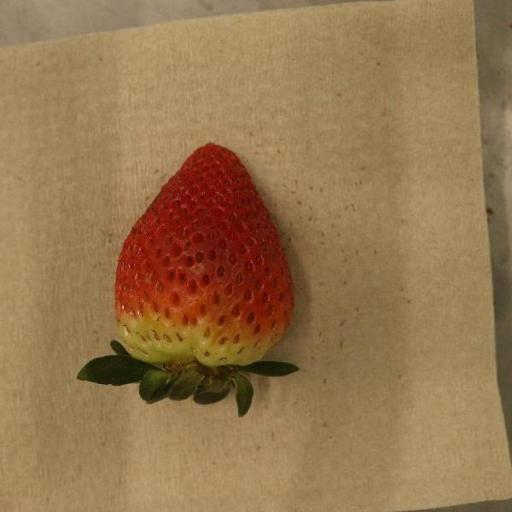Strawberry: (77, 143, 300, 419)
